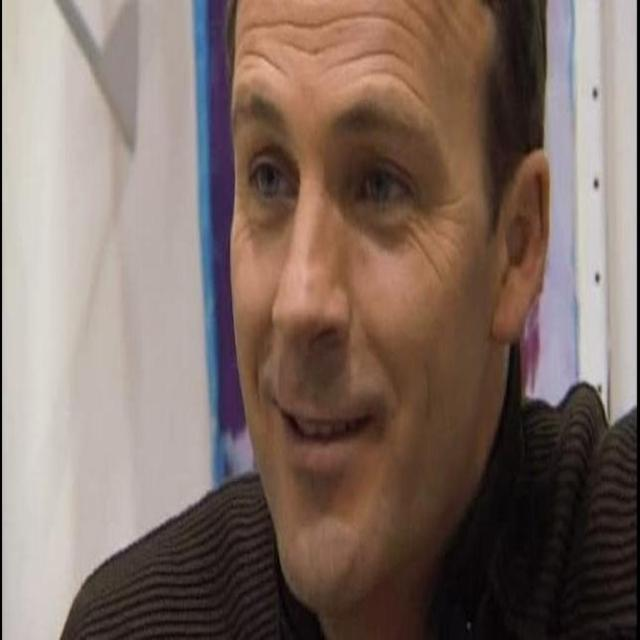Face: (224, 3, 501, 620)
